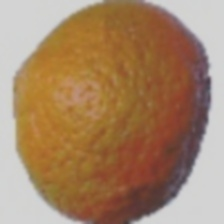tangerine: (37, 34, 183, 177)
